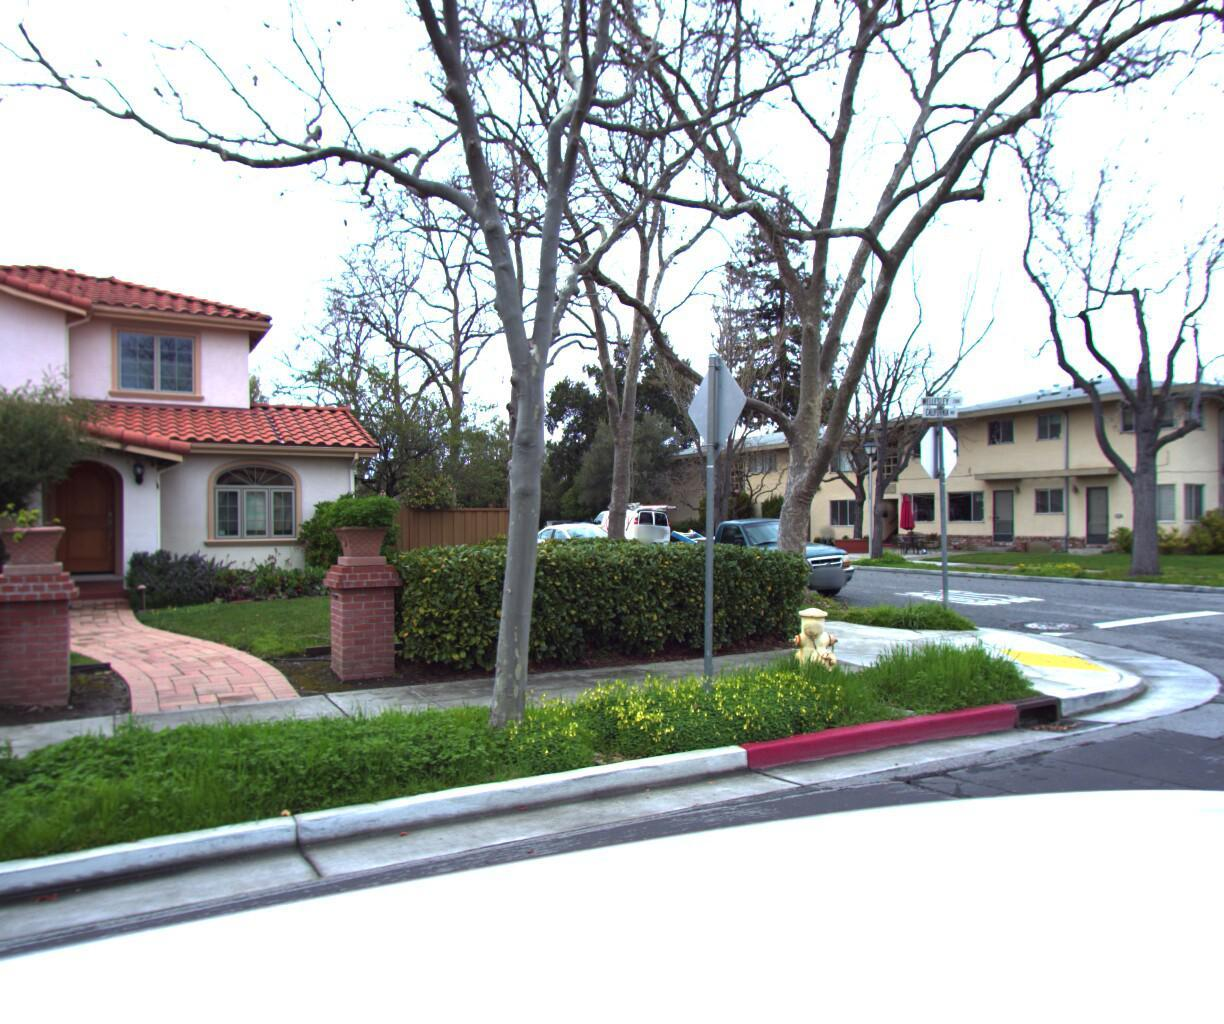car: (644, 517, 878, 610), (521, 525, 653, 589), (575, 507, 686, 565)
